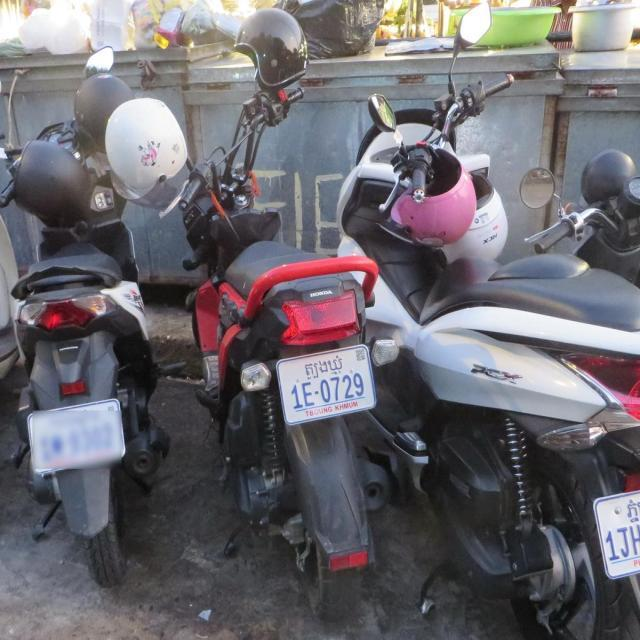Tboung_Khmum: (303, 354, 344, 380)
